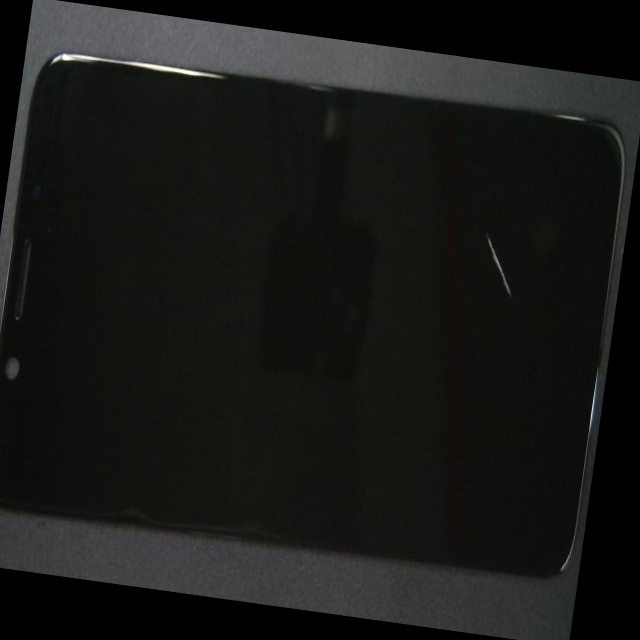scratch: (232, 115, 635, 338)
